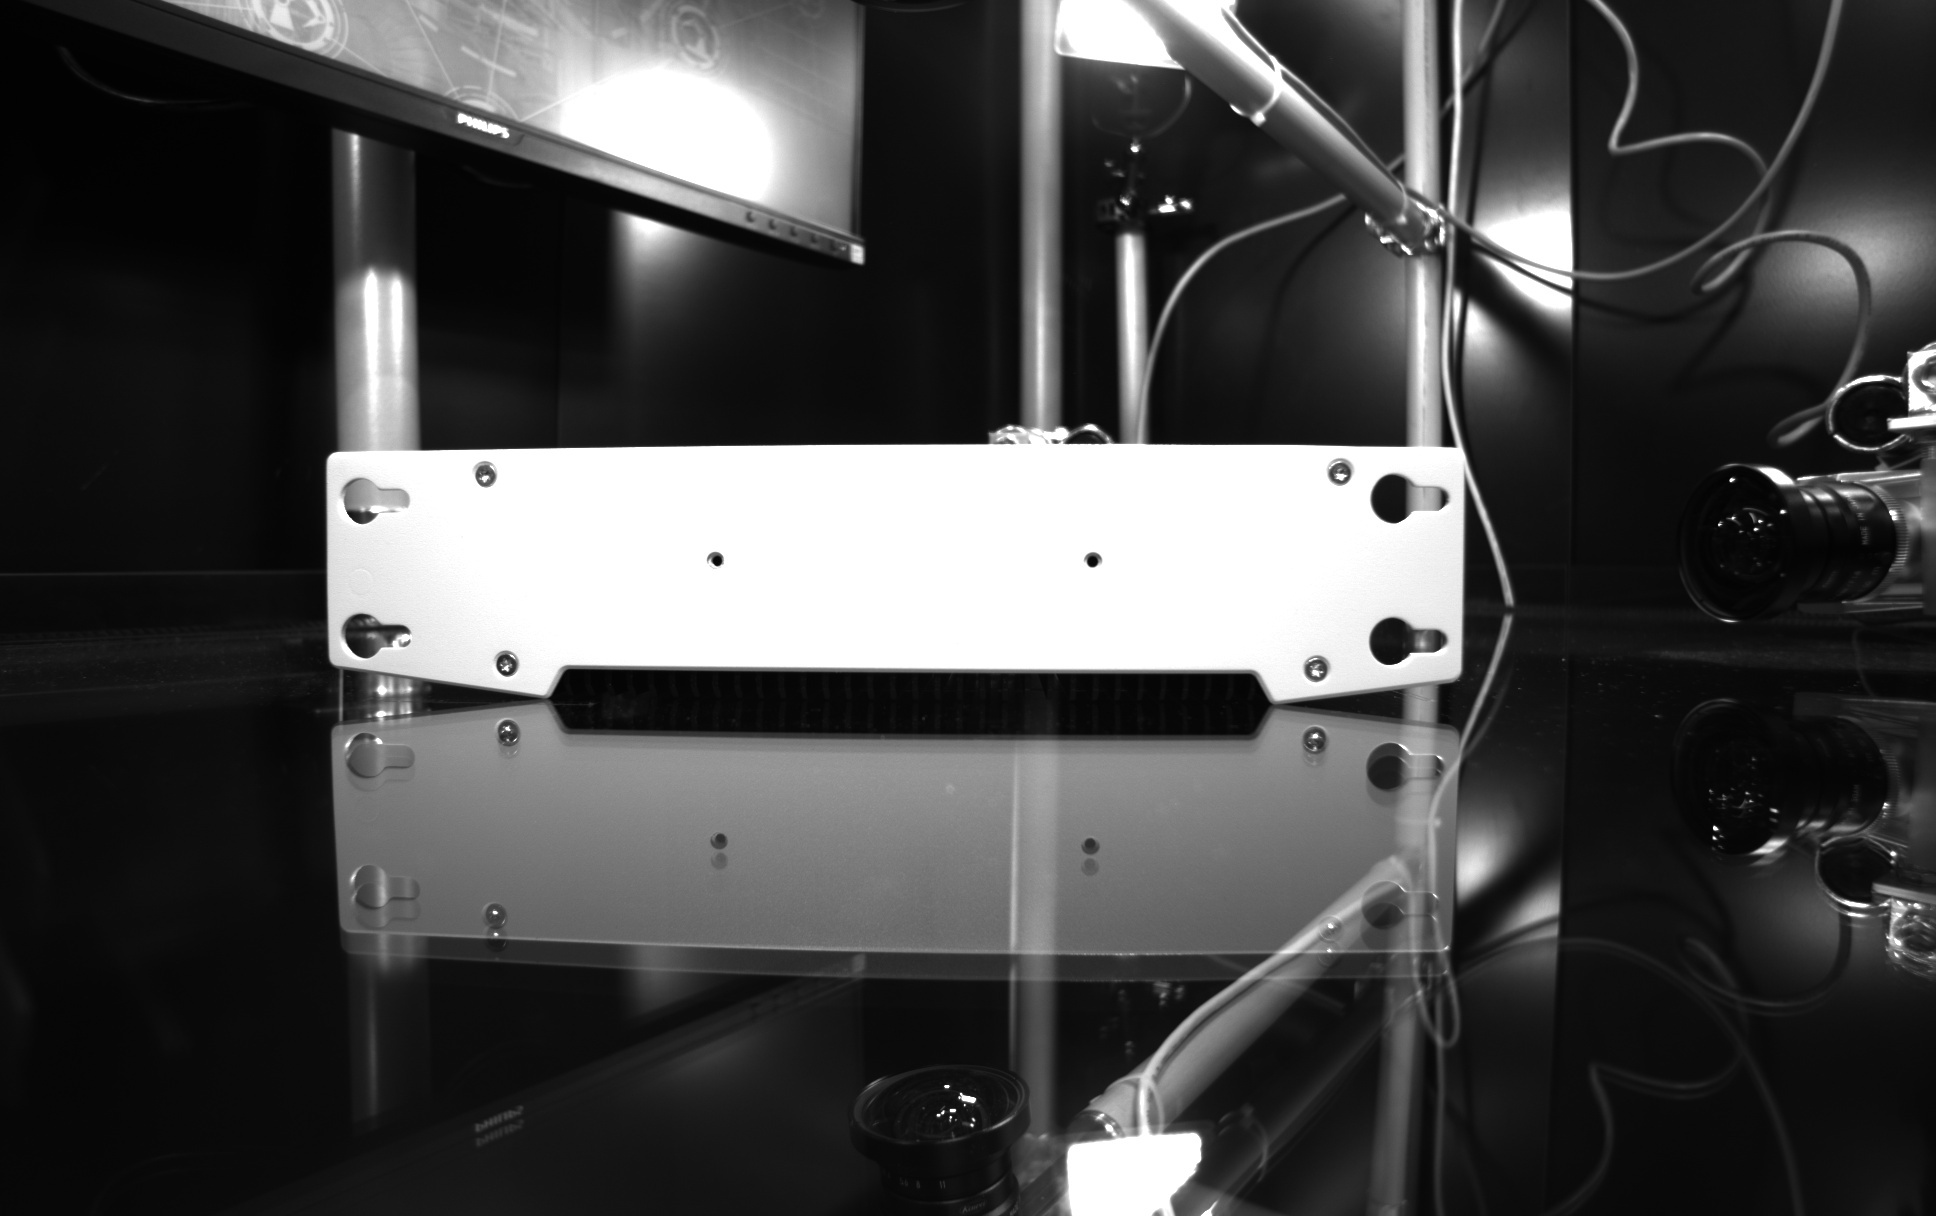CamBack: (284, 415, 1500, 712)
Schraube: (1297, 649, 1336, 689), (485, 644, 524, 684), (1321, 452, 1360, 492), (464, 455, 502, 495)
Schraube_gespiegelt: (473, 894, 514, 960), (1293, 719, 1341, 773), (1310, 911, 1350, 974), (488, 714, 525, 771)
